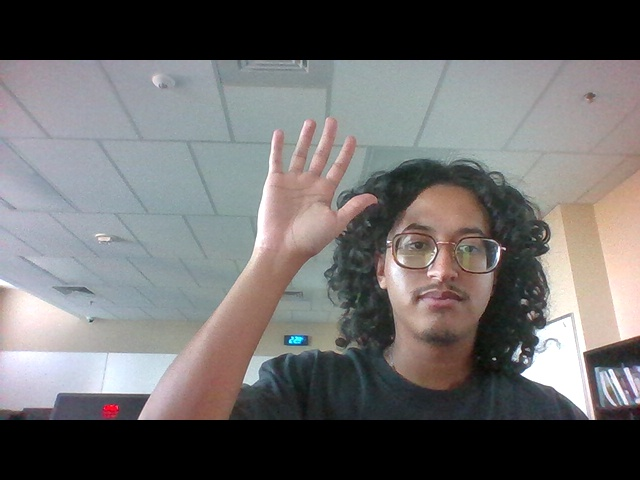hello: (257, 113, 377, 262)
